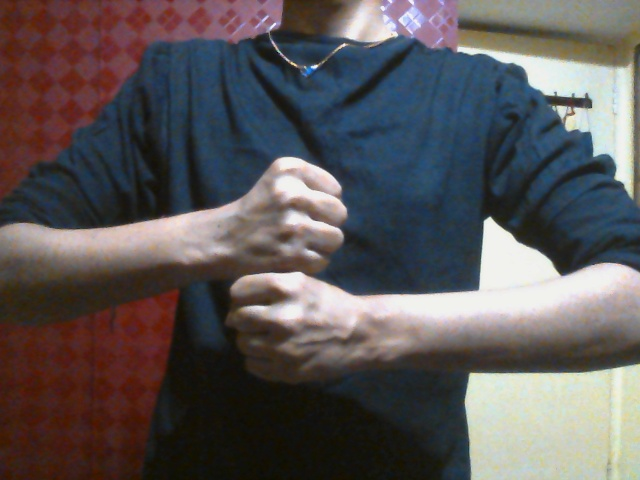G: (223, 155, 364, 385)
